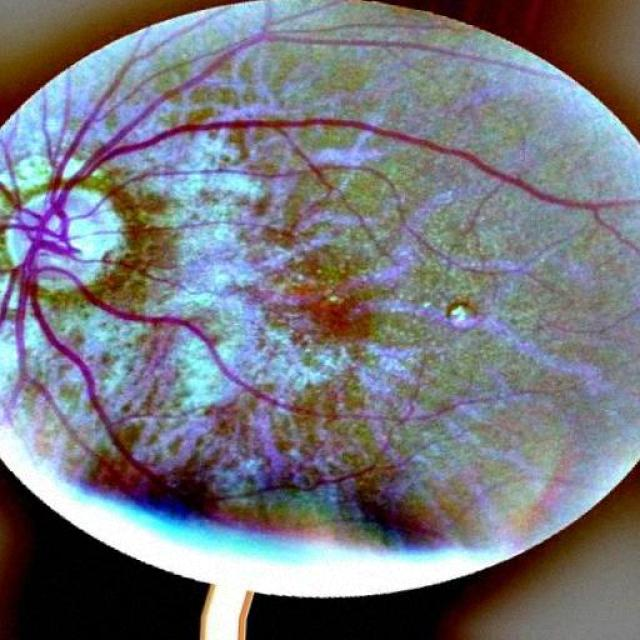Macula: (291, 292, 375, 342)
Nerves: (41, 17, 518, 216), (12, 225, 355, 464), (78, 218, 316, 254)
Optic Disk: (7, 179, 129, 298)
